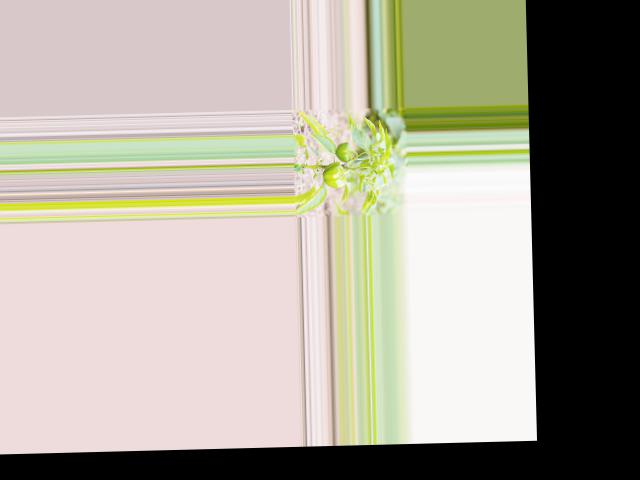bell_pepper: (333, 141, 354, 162)
